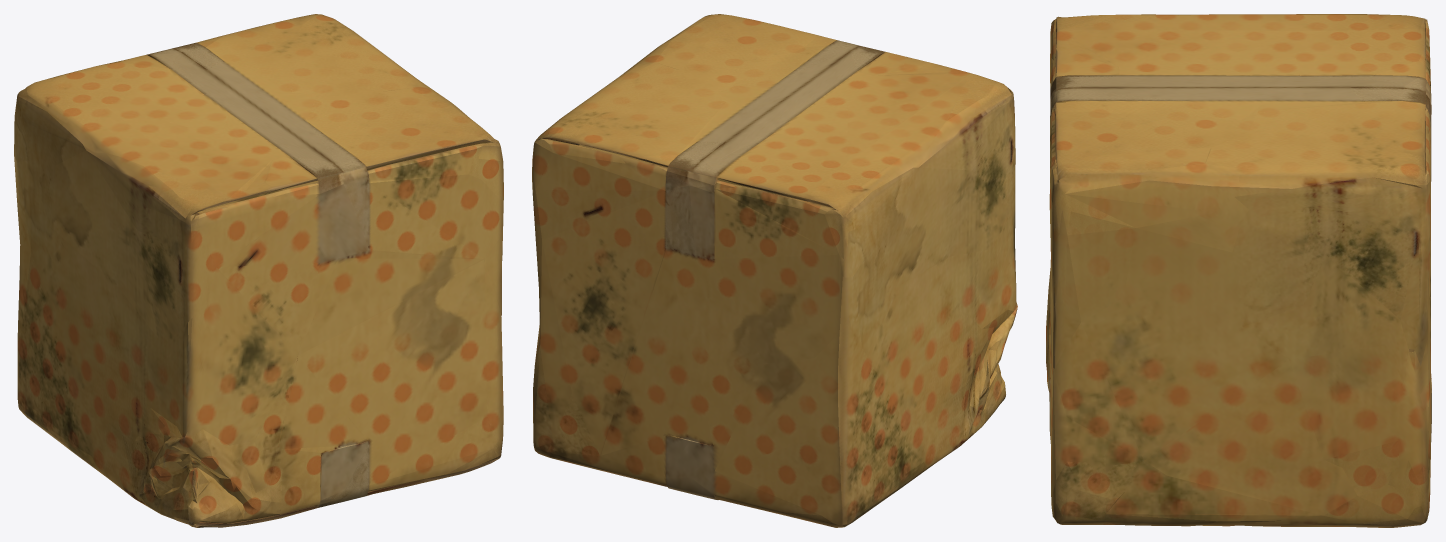
Rendered from scatolone_giallo.glb.
3 views of the same model, side by side, from view 1: azimuth 30°, elevation 25°; view 2: azimuth 150°, elevation 25°; view 3: azimuth 270°, elevation 25° (orthographic). The views are drawn at different scales.
Parts seen in each view (by area): view 1: Mesh_0; view 2: Mesh_0; view 3: Mesh_0.
Boxes of the visible parts, x1,y1,x2,y2 form: Mesh_0: (14, 14, 503, 527); Mesh_0: (532, 14, 1017, 527); Mesh_0: (1046, 14, 1431, 527).
Bounding box in the file's own units: 1.89 × 1.86 × 1.8.
1 material, 1 textured.
